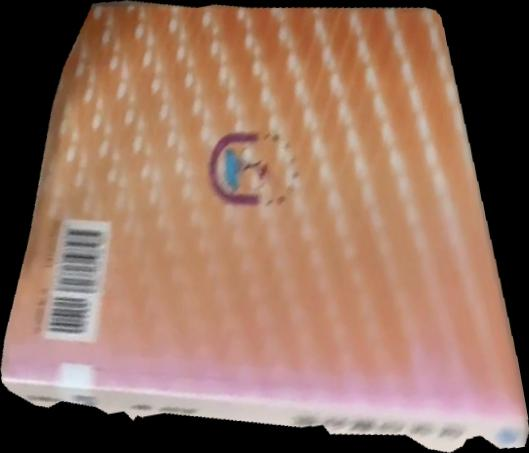flat: (1, 1, 529, 453)
